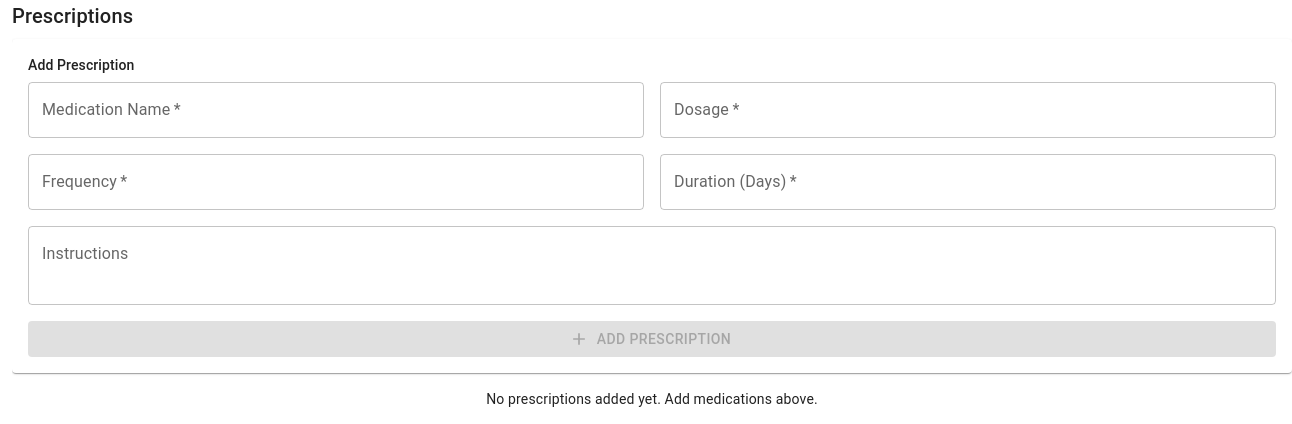
it: PrescriptionForm › should enable Add button when all required fields are filled
This screenshot has width=1292, height=424.
Type "Paracetamol" into the field labelled "Medication Name *" at (336, 110), box [28,82,644,138]
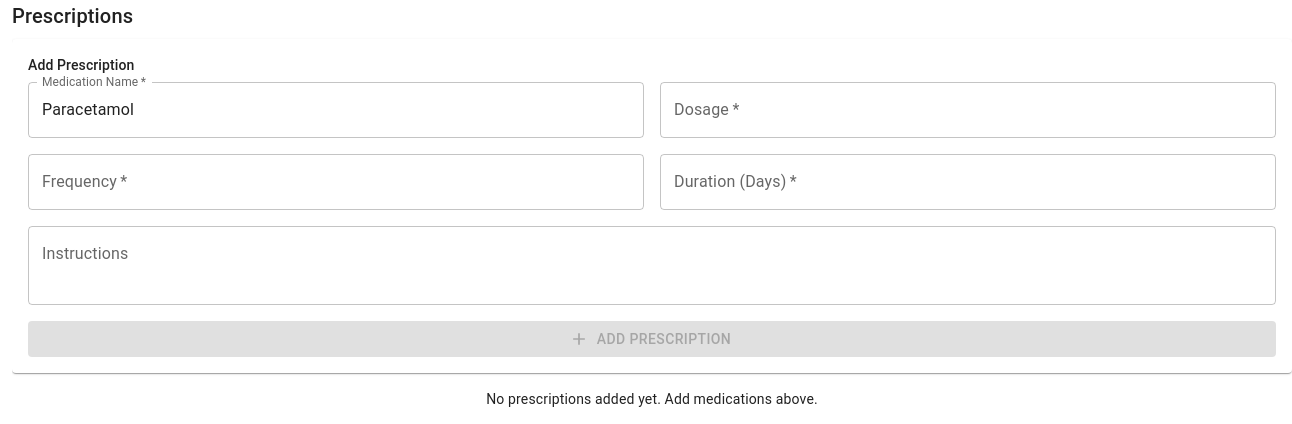
Type "500mg" into the field labelled "Dosage *" at (968, 110), box [660,82,1276,138]
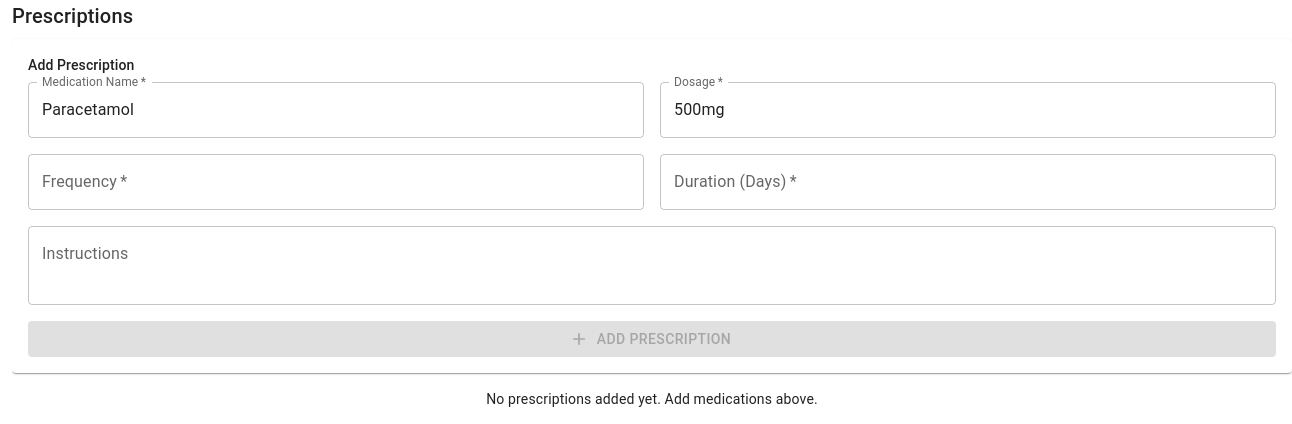
Type "3 times daily" into the field labelled "Frequency *" at (336, 182), box [28,154,644,210]
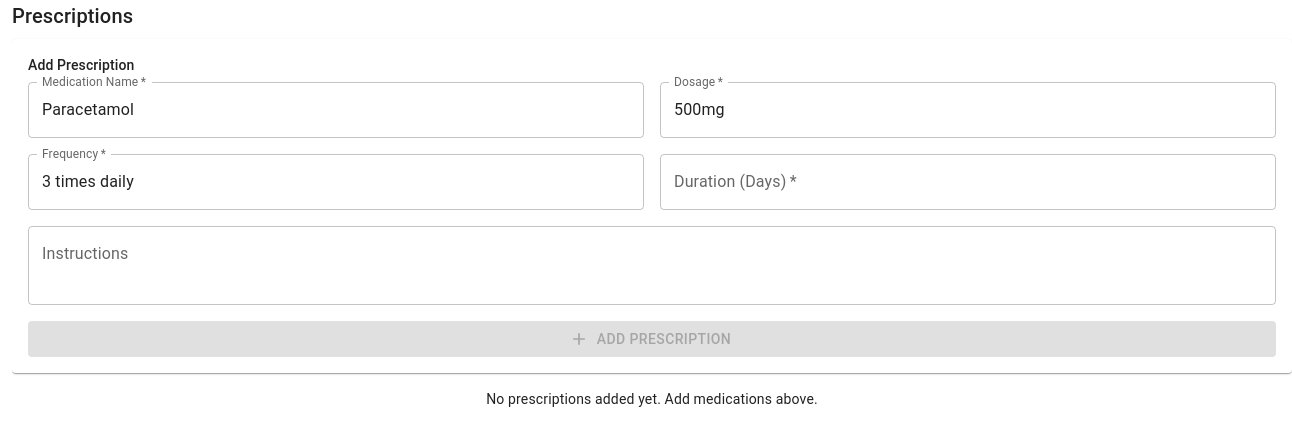
Type "5" into the number field labelled "Duration (Days) *" at (968, 182), box [660,154,1276,210]
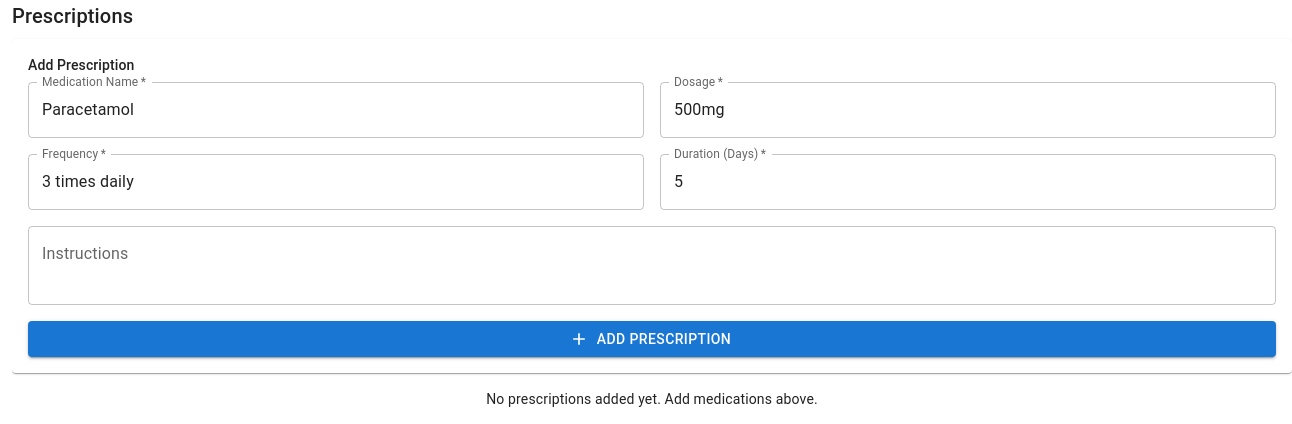
Check: the button "Add Prescription" is enabled, box [28,321,1276,357]
